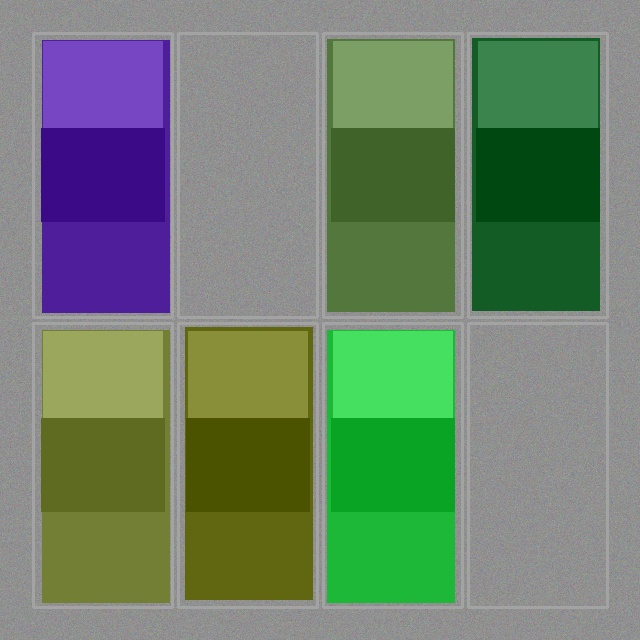space-empty: (180, 35, 315, 315), (470, 325, 605, 605)
space-occupied: (35, 35, 170, 315), (325, 35, 460, 315), (470, 35, 605, 315), (35, 325, 170, 605), (180, 325, 315, 605), (325, 325, 460, 605)
